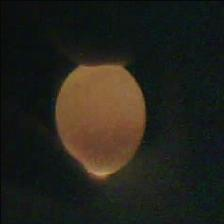infertile: (53, 62, 145, 176)
